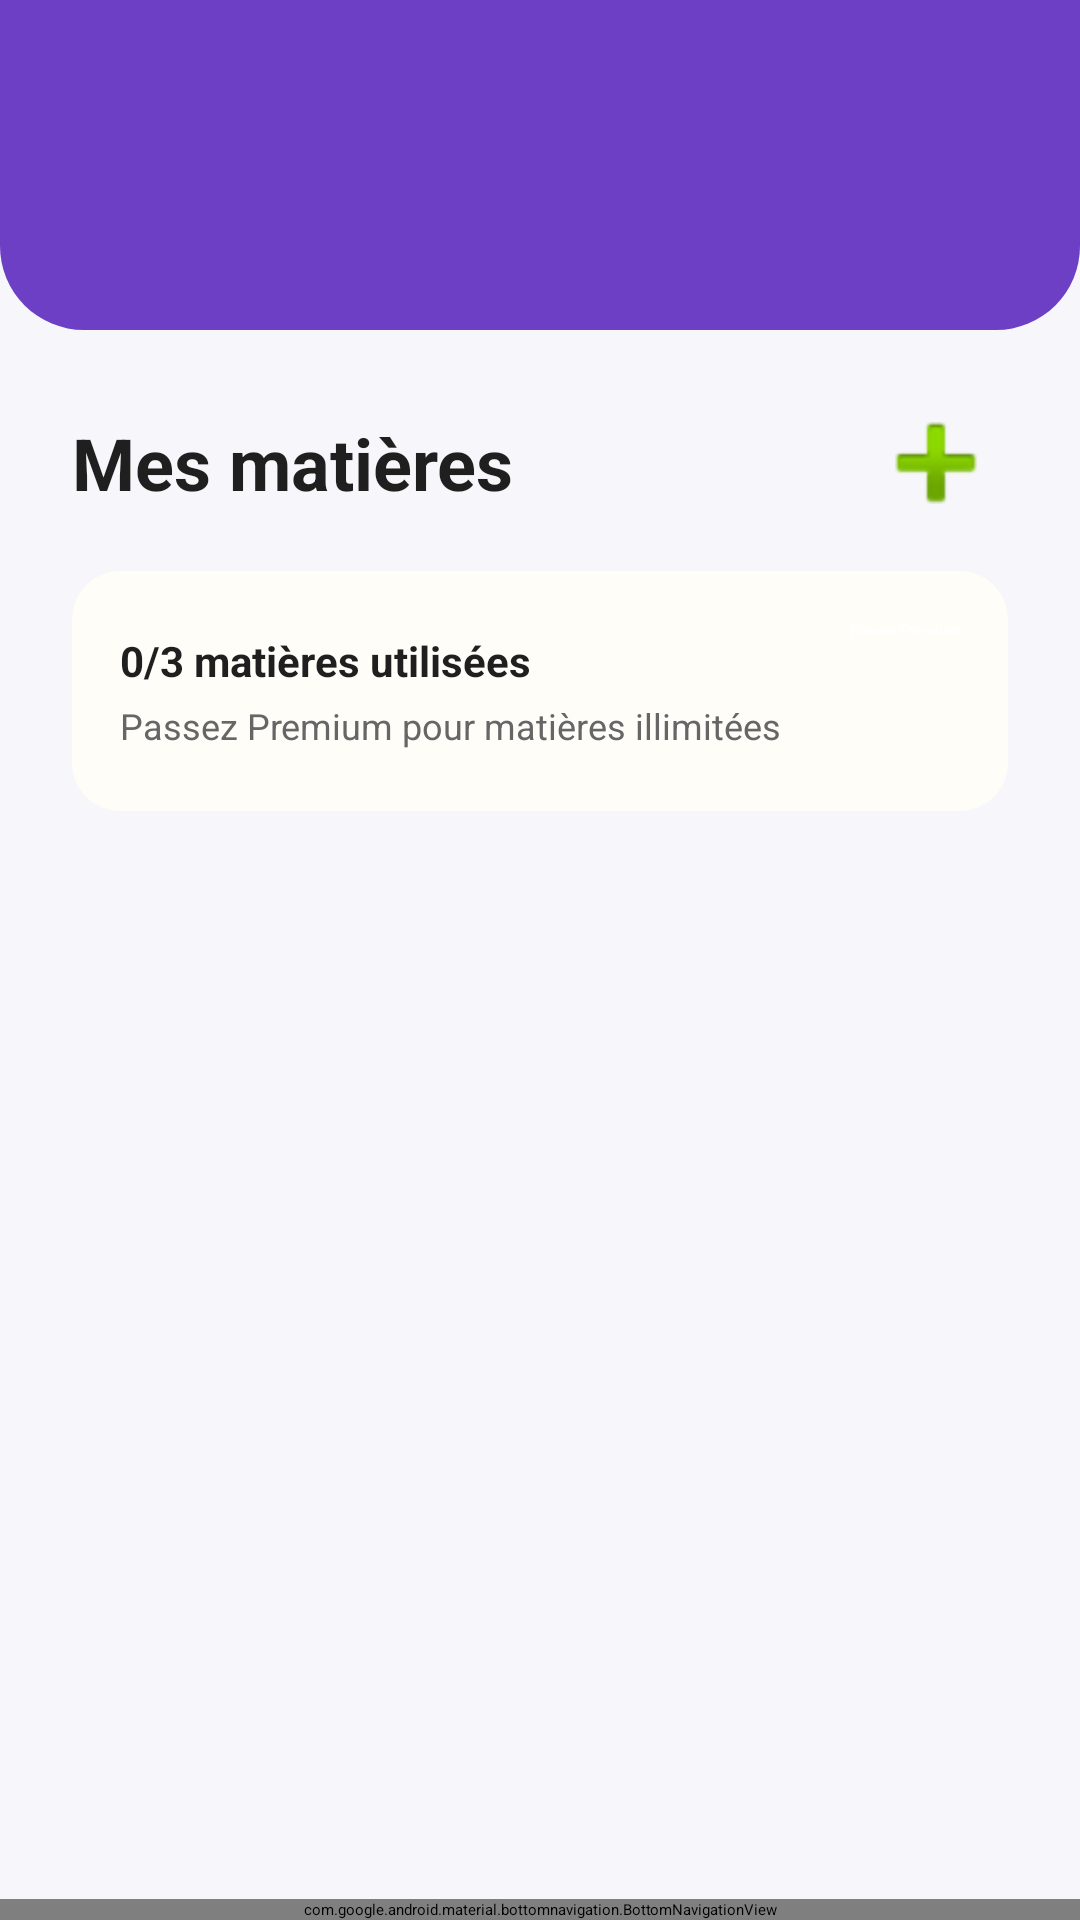

Icon click points for this 1080*1920 phone screenshot, format (x=x, y=y):
Ajouter un module: (x=936, y=463)
